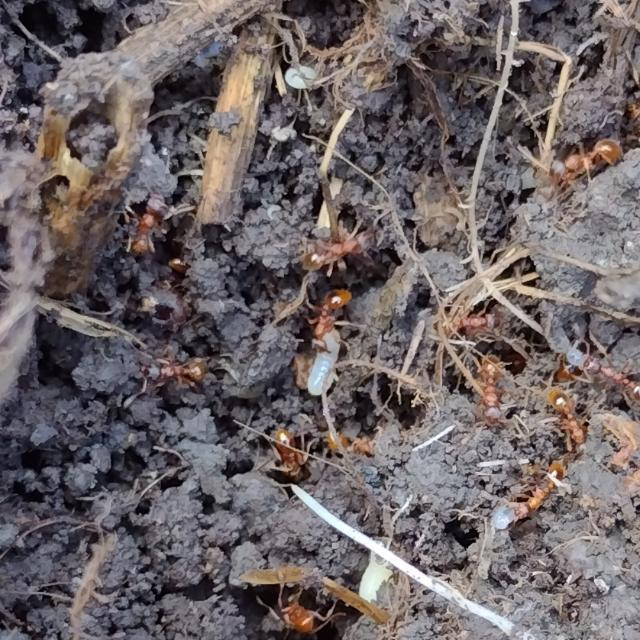Myrmica: (535, 124, 635, 194), (290, 211, 382, 279), (284, 282, 362, 352), (129, 339, 221, 396), (508, 454, 574, 528), (253, 581, 337, 639), (464, 344, 516, 436), (426, 292, 514, 346), (570, 342, 640, 408), (258, 416, 320, 486), (118, 189, 176, 259), (538, 382, 594, 448)
